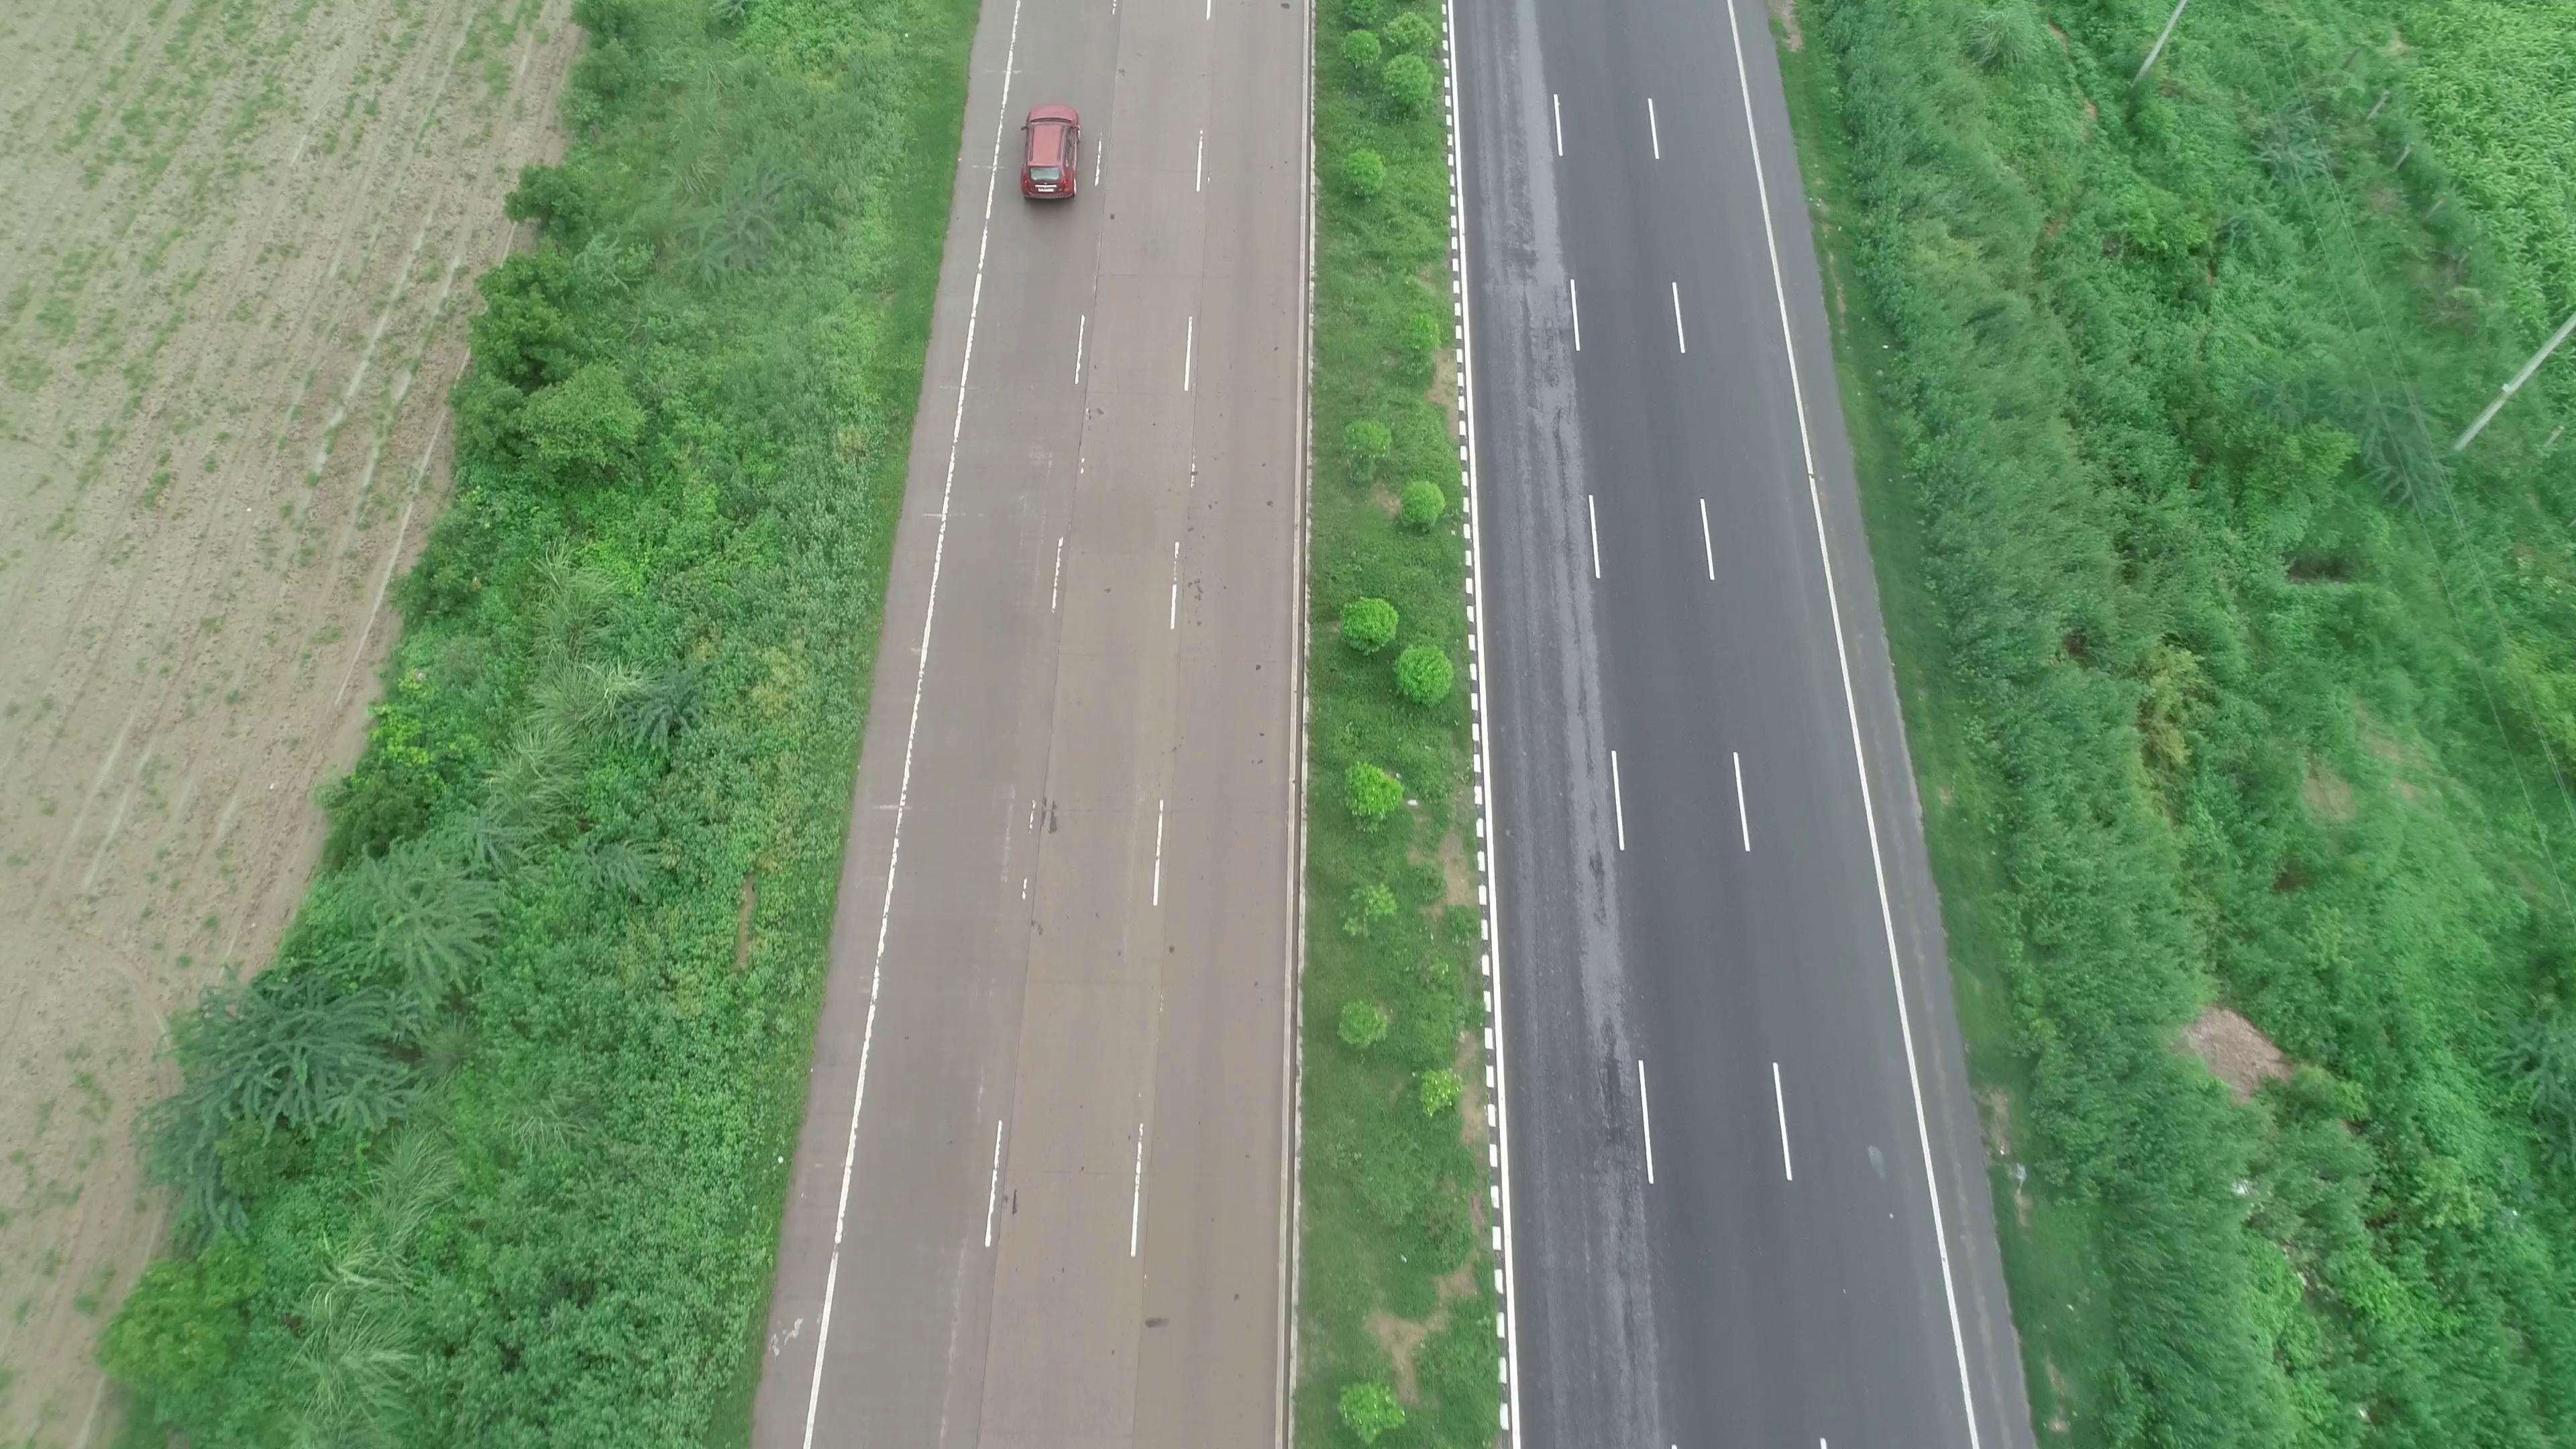Ravelling: (1587, 1005, 1651, 1338), (1525, 299, 1582, 571)
